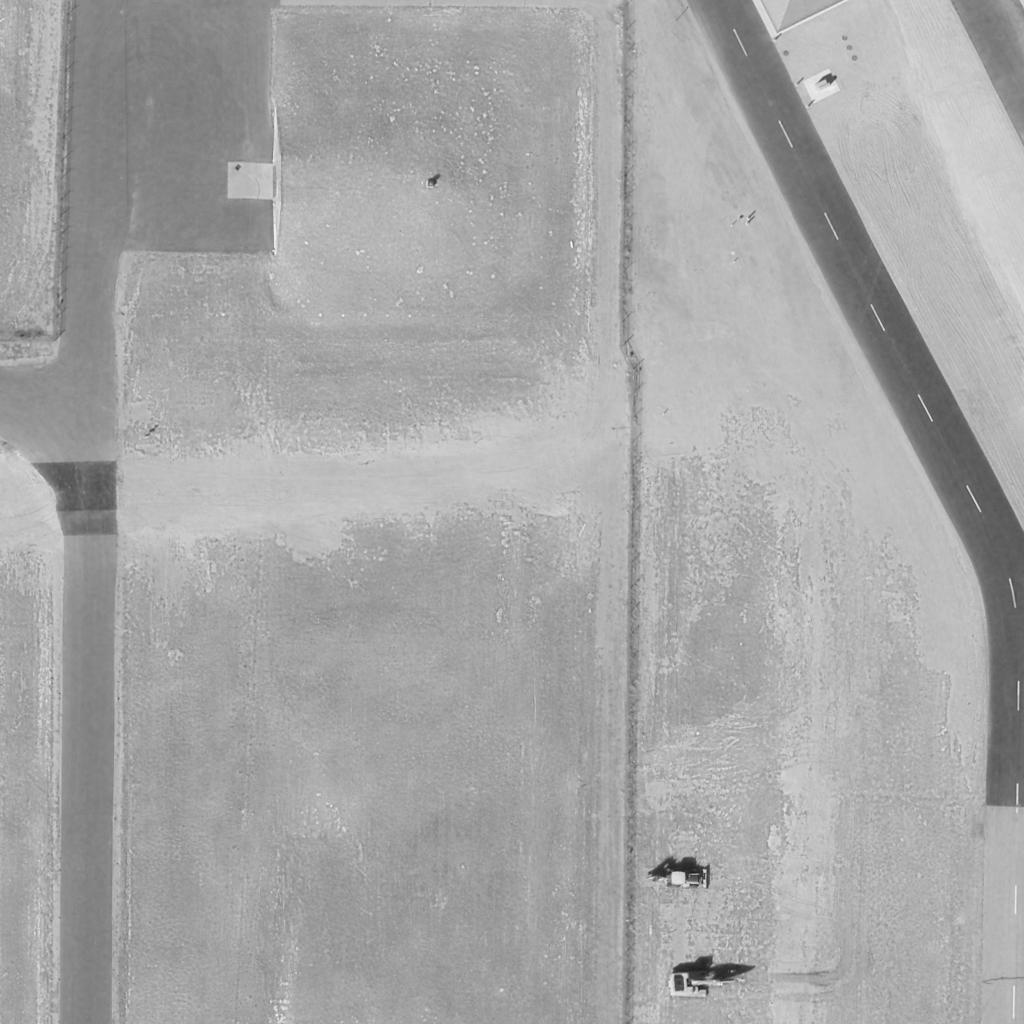vehicle: (667, 968, 747, 996), (662, 865, 712, 889)
